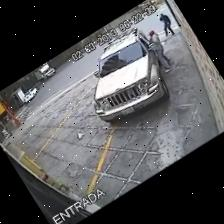person: (150, 31, 172, 72), (160, 13, 175, 35)
